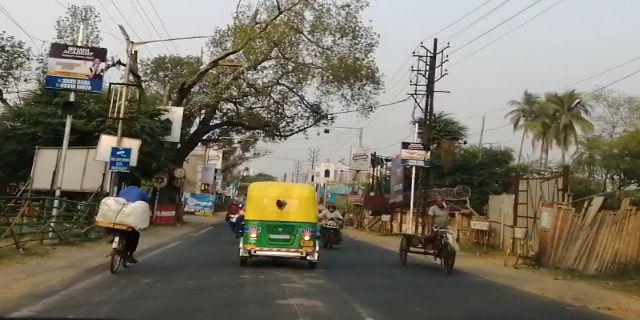Autorickshaw: (238, 176, 321, 266)
Cycle: (97, 170, 146, 281)
Motorbike: (320, 200, 344, 253)
Van: (393, 197, 465, 277)
